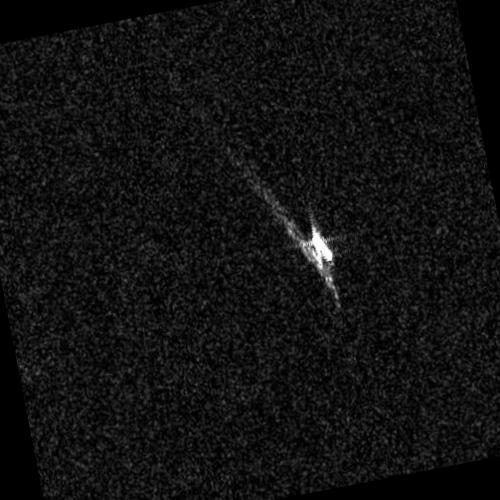ship: (311, 224, 333, 263)
